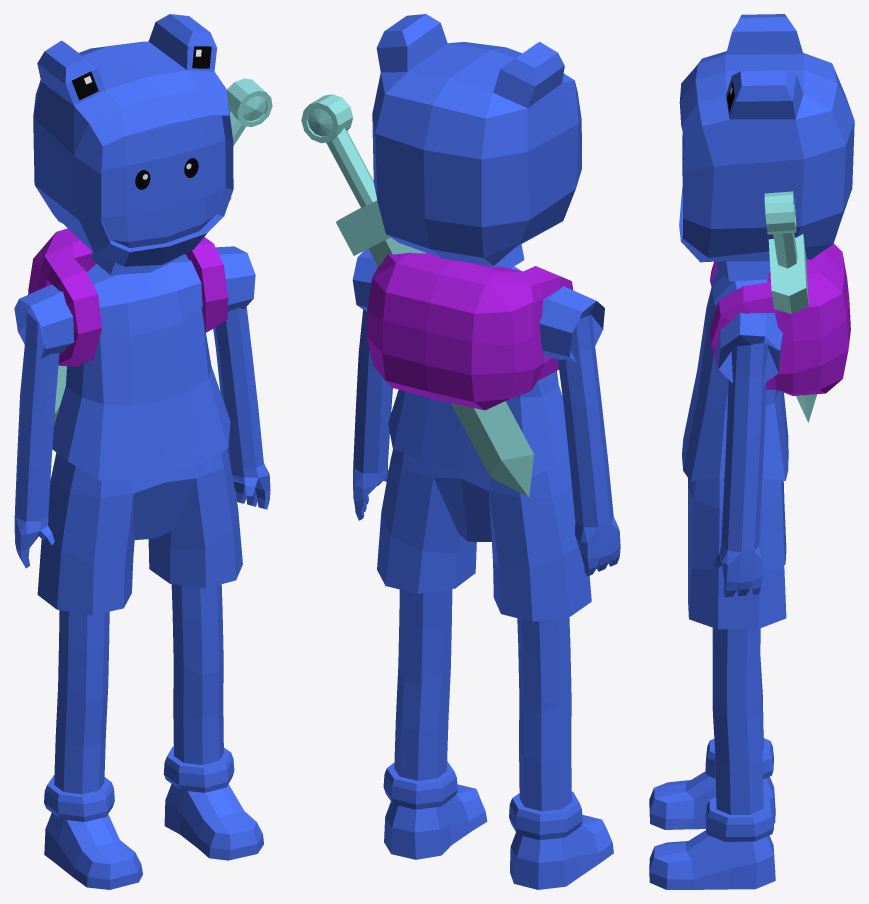
The model's file is perso.fbx.
3 renders of one model, left to right at view 1: azimuth 30°, elevation 25°; view 2: azimuth 150°, elevation 25°; view 3: azimuth 270°, elevation 25°, orthographic. The views are drawn at different scales.
Parts seen in each view (by area): view 1: Cube, Cube.002, Cube.001, Plan; view 2: Cube, Cube.002, Cube.001; view 3: Cube, Cube.002, Cube.001.
Part boxes in pixels (x1=…): Cube: x1=14, y1=14, x2=270, y2=889; Cube.002: x1=28, y1=228, x2=228, y2=366; Cube.001: x1=54, y1=78, x2=272, y2=425; Plan: x1=72, y1=46, x2=211, y2=100; Cube: x1=352, y1=14, x2=620, y2=889; Cube.002: x1=366, y1=252, x2=573, y2=410; Cube.001: x1=301, y1=94, x2=533, y2=497; Cube: x1=649, y1=14, x2=854, y2=889; Cube.002: x1=710, y1=243, x2=850, y2=395; Cube.001: x1=764, y1=191, x2=816, y2=422.
Bounding box in the file's own units: 104 × 291 × 67.44.
